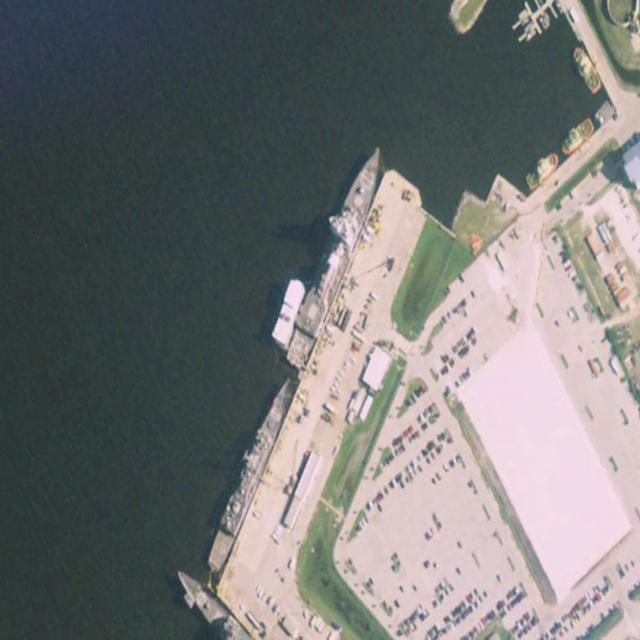Destroyer: (280, 135, 391, 372)
Frigate: (201, 367, 300, 577)
Hovercraft: (570, 41, 604, 97), (522, 145, 562, 192), (557, 112, 596, 160)
